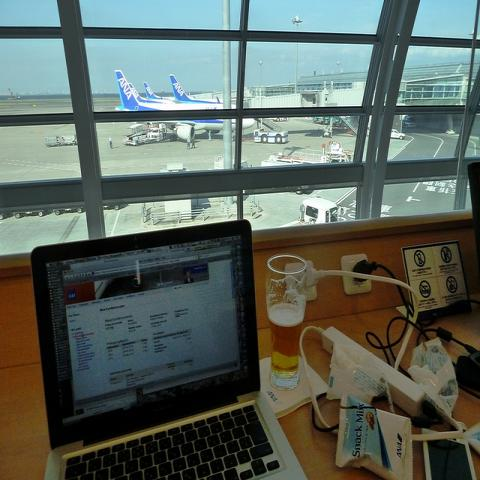truck: (276, 196, 344, 227)
